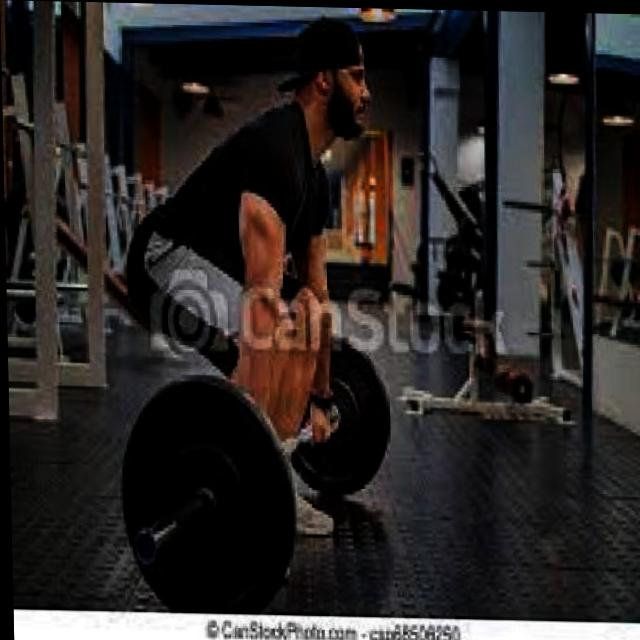barbell: (114, 364, 298, 607)
